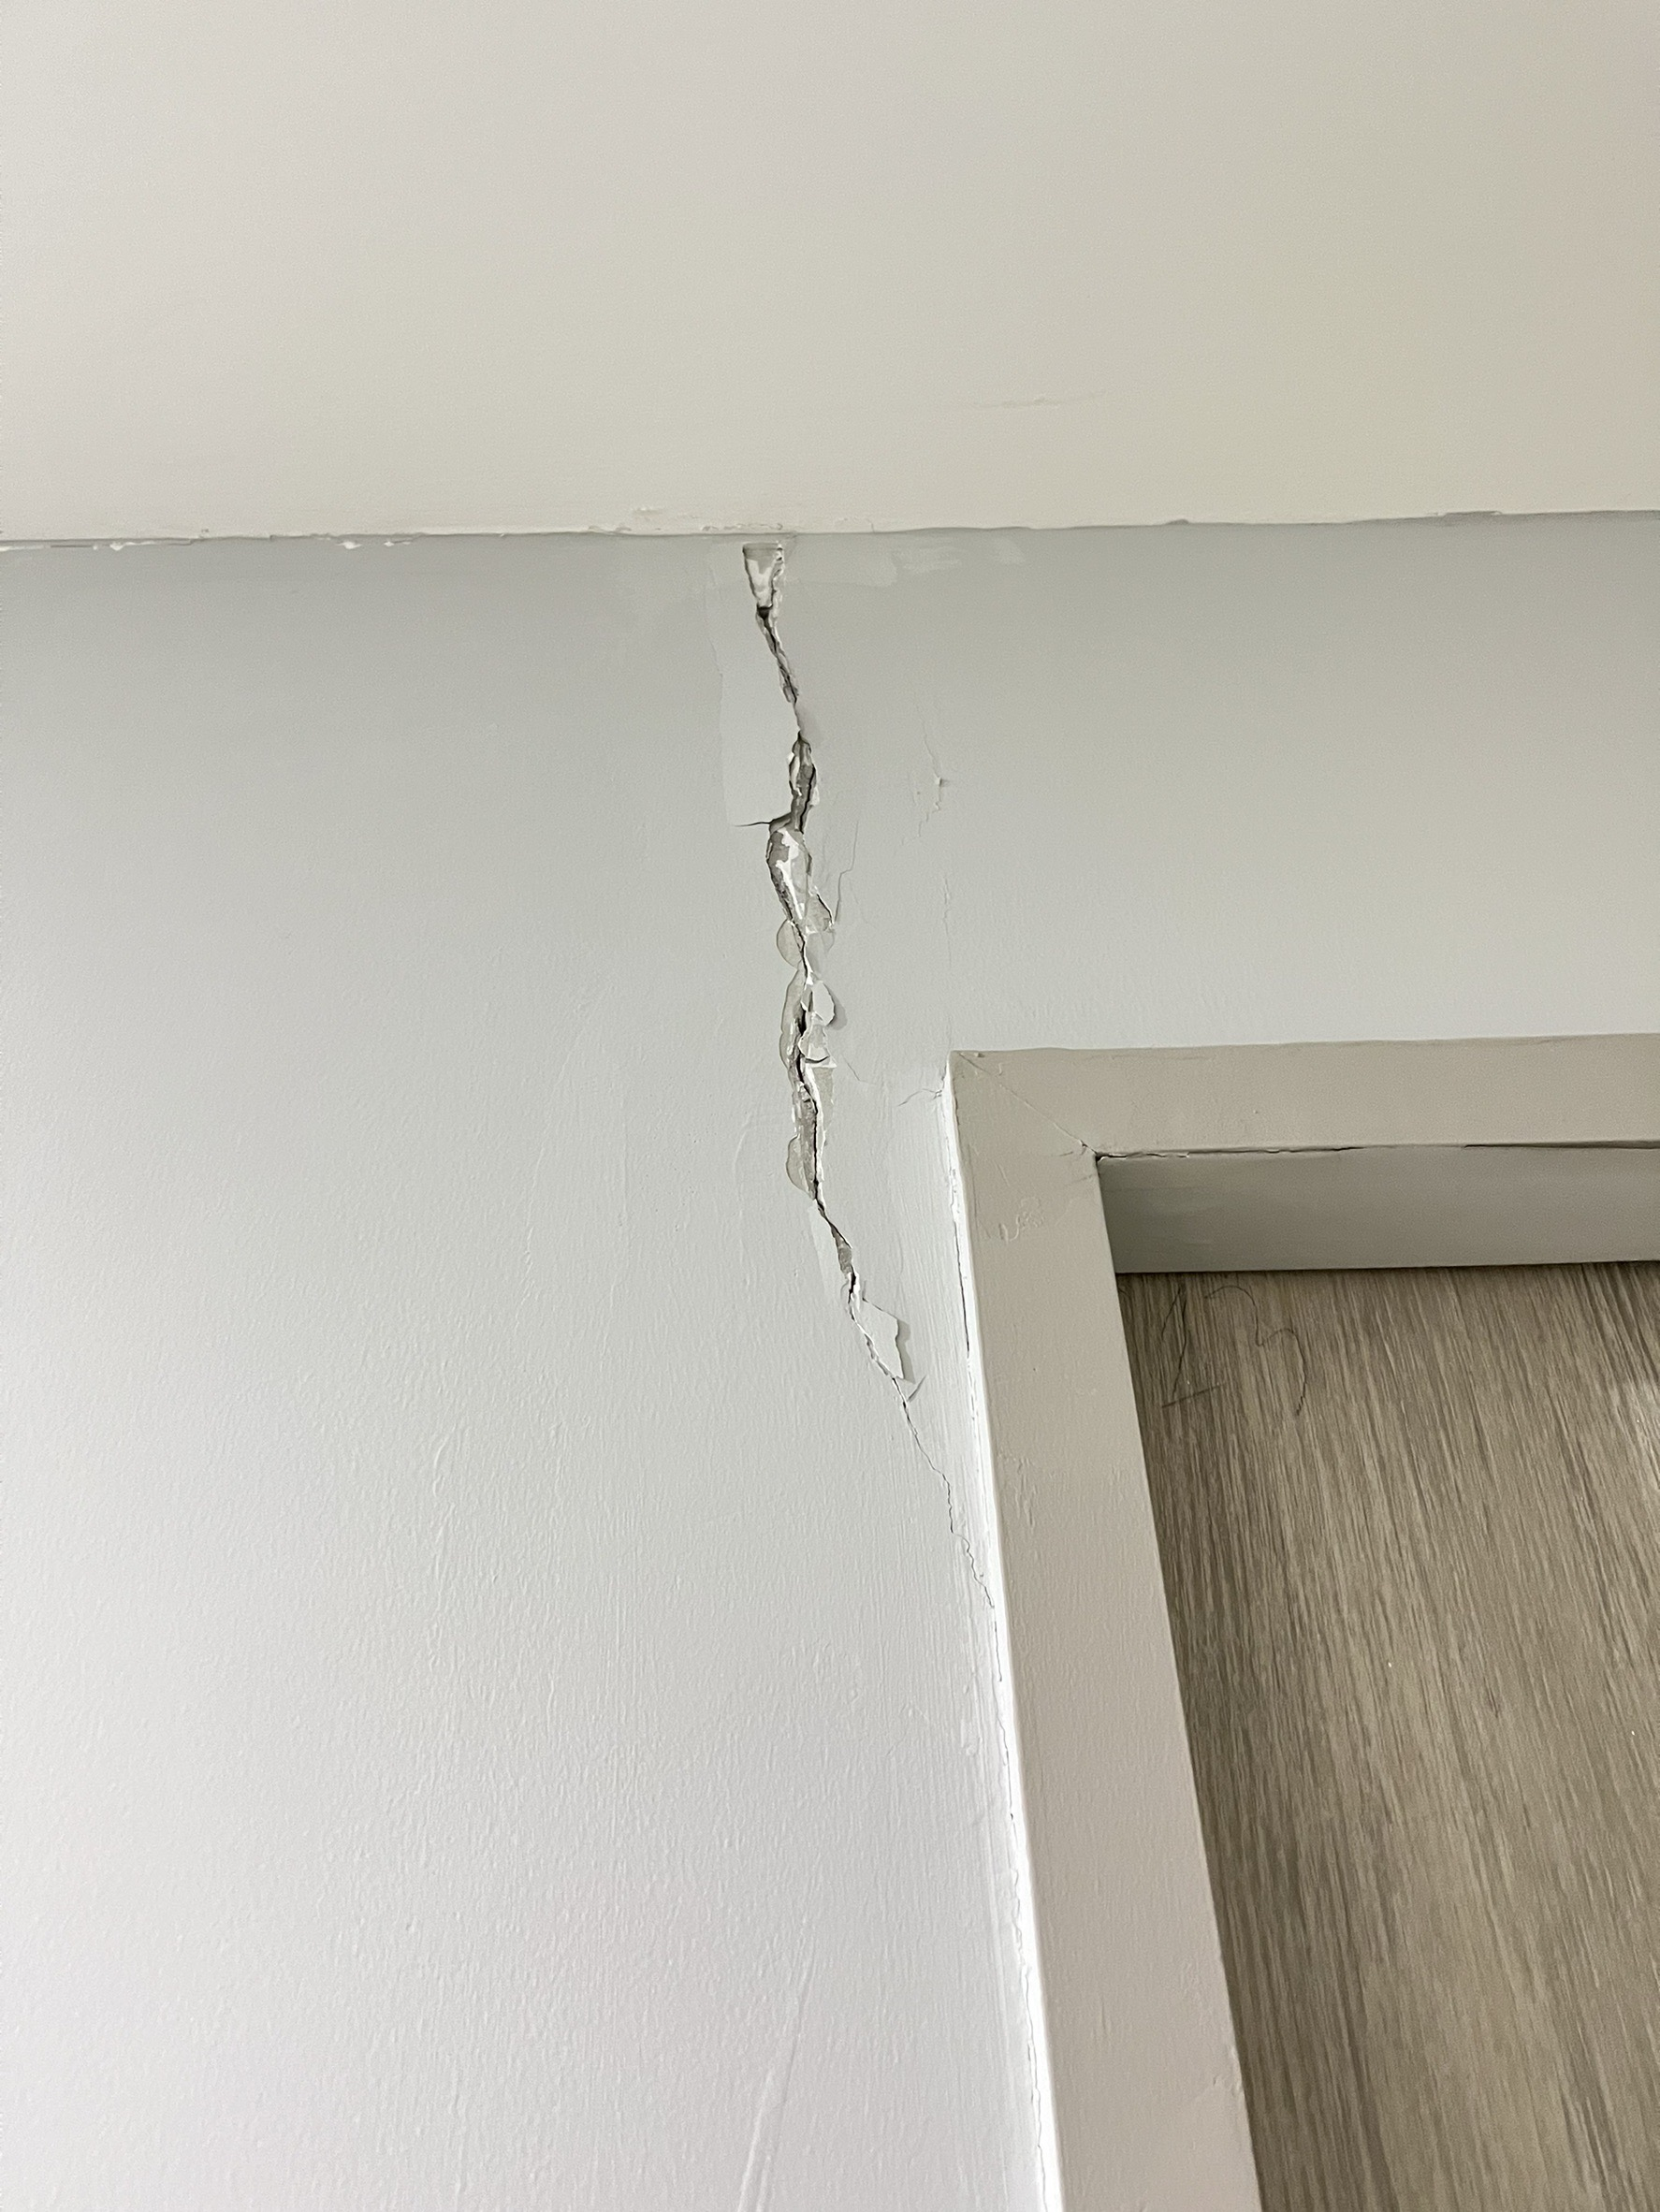Low: (668, 516, 952, 1513)
